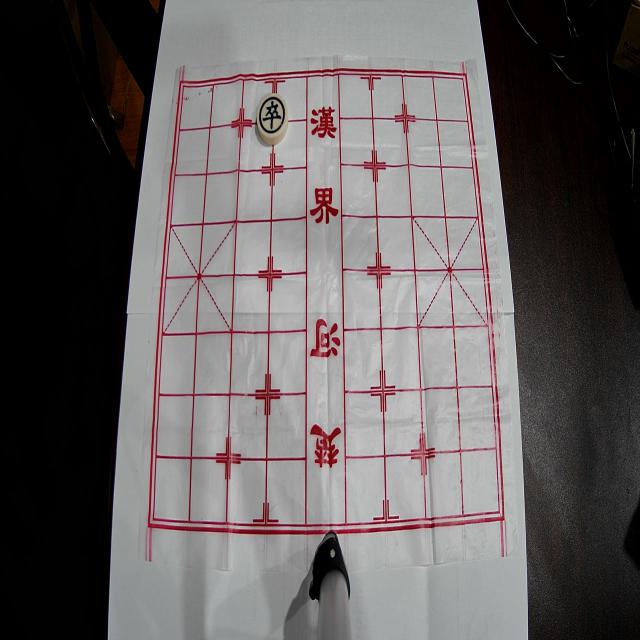black-soldier: (256, 92, 288, 144)
